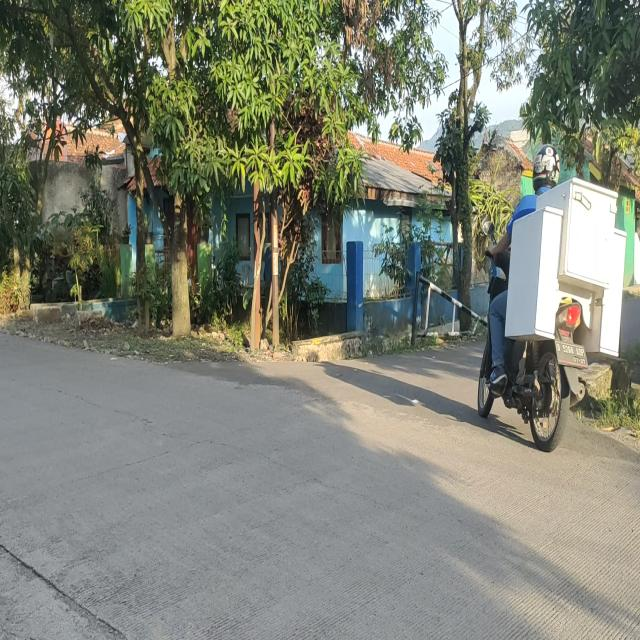helmet: (535, 143, 561, 192)
